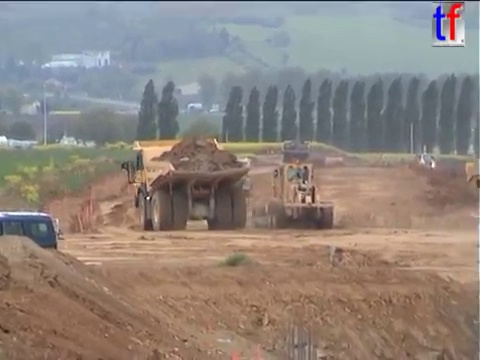motor grader: (252, 161, 335, 231)
truck: (119, 136, 252, 232), (1, 208, 62, 284), (212, 156, 253, 197), (278, 138, 311, 164), (463, 156, 480, 191)
